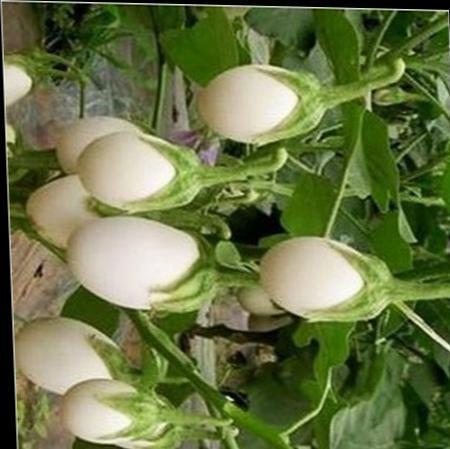eggplant: (8, 105, 249, 448), (194, 41, 364, 170), (230, 236, 413, 348)
